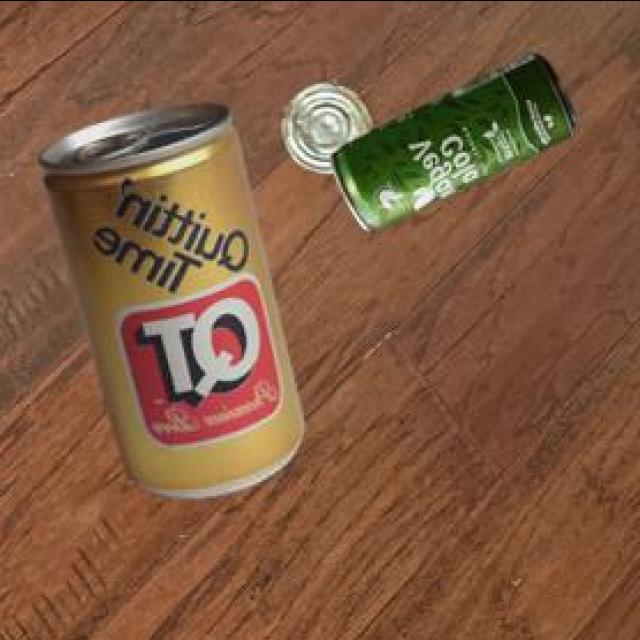logam: (43, 107, 307, 501), (335, 56, 579, 234), (284, 86, 379, 178)
